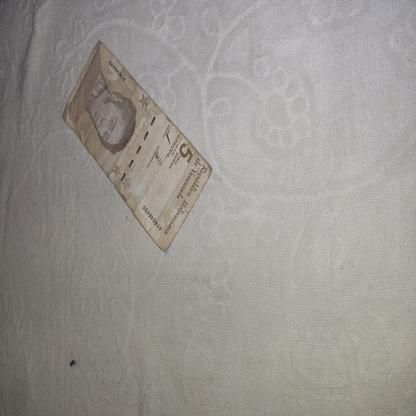five-front-vef: (62, 40, 212, 251)
